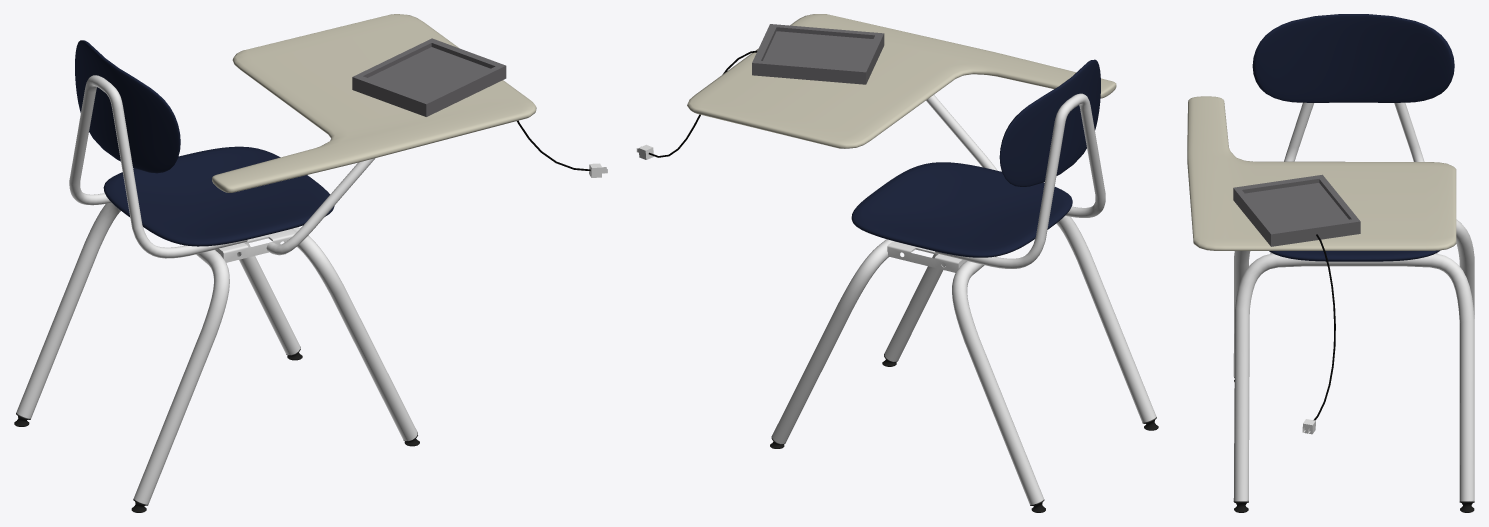
File: schooldesk.glb
The picture shows the model from 3 angles, left to right: view 1: azimuth 30°, elevation 25°; view 2: azimuth 150°, elevation 25°; view 3: azimuth 270°, elevation 25°; orthographic projection. The views are drawn at different scales.
Parts seen in each view (by area): view 1: american school desk, Cube; view 2: american school desk, Cube; view 3: american school desk, Cube, BézierCurve.
Boxes of the visible parts, x1,y1,x2,y2 form: american school desk: [14, 14, 536, 512]; Cube: [352, 38, 506, 116]; american school desk: [687, 14, 1158, 512]; Cube: [752, 24, 884, 84]; american school desk: [1187, 14, 1474, 512]; Cube: [1233, 174, 1360, 246]; BézierCurve: [1313, 234, 1335, 420].
Bounding box in the file's own units: 1.65 × 1.23 × 0.84.
Materials: 3 (1 with a texture image).
